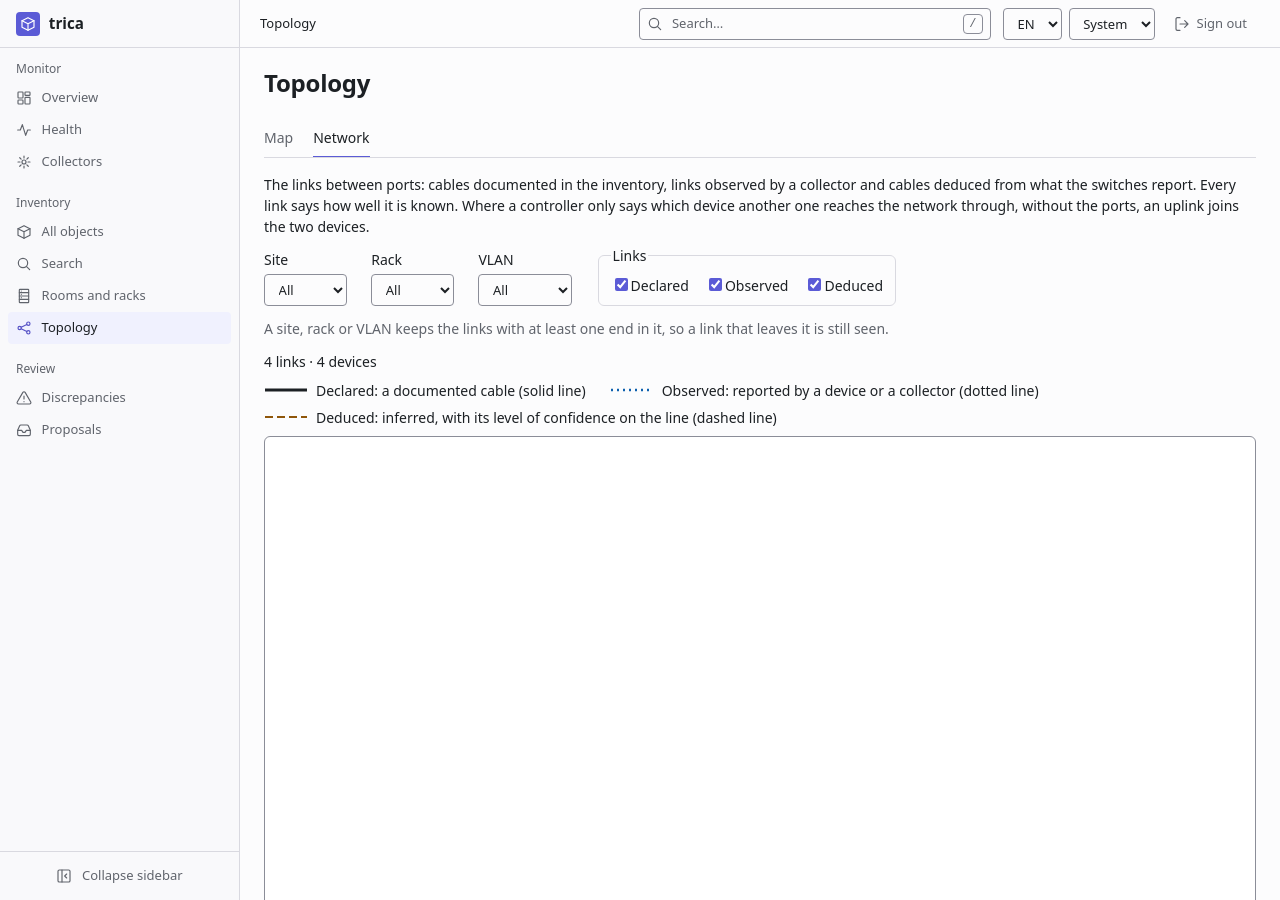
Test: filters › narrows to a site, keeping a link that leaves it
The width and height of the screenshot is (1280, 900).
Expected: the heading "Topology" is shown, left=264, top=66, right=370, bottom=99
Select "lyon-1" in the dropdown labelled "Site" at (306, 290), box left=264, top=274, right=347, bottom=306
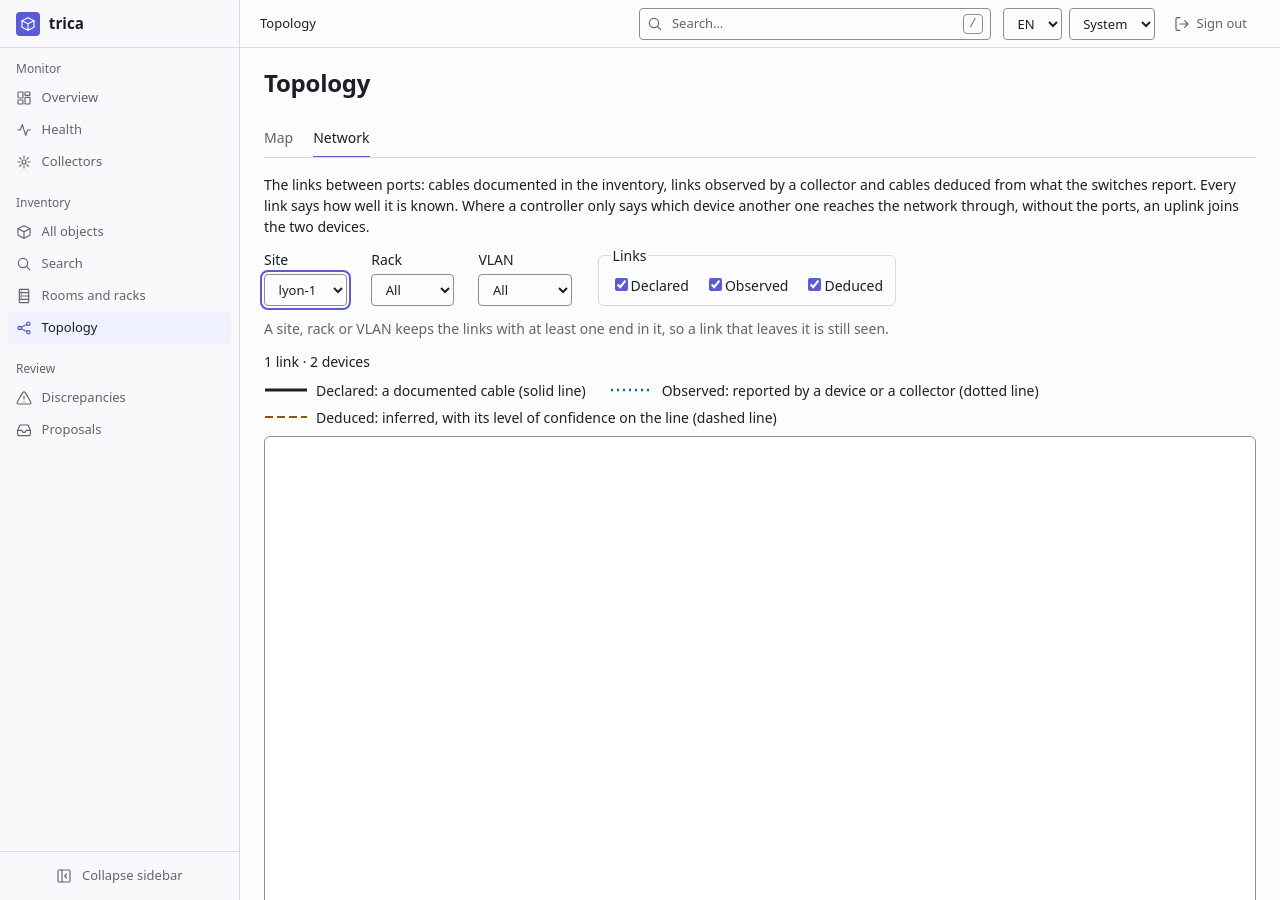
Expected: the text "1 link · 2 devices" is shown, left=264, top=352, right=370, bottom=371
